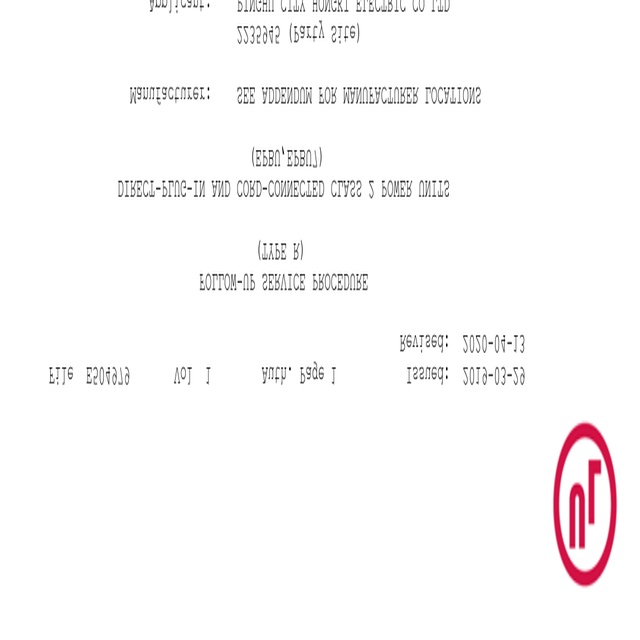ul: (553, 421, 616, 588)
